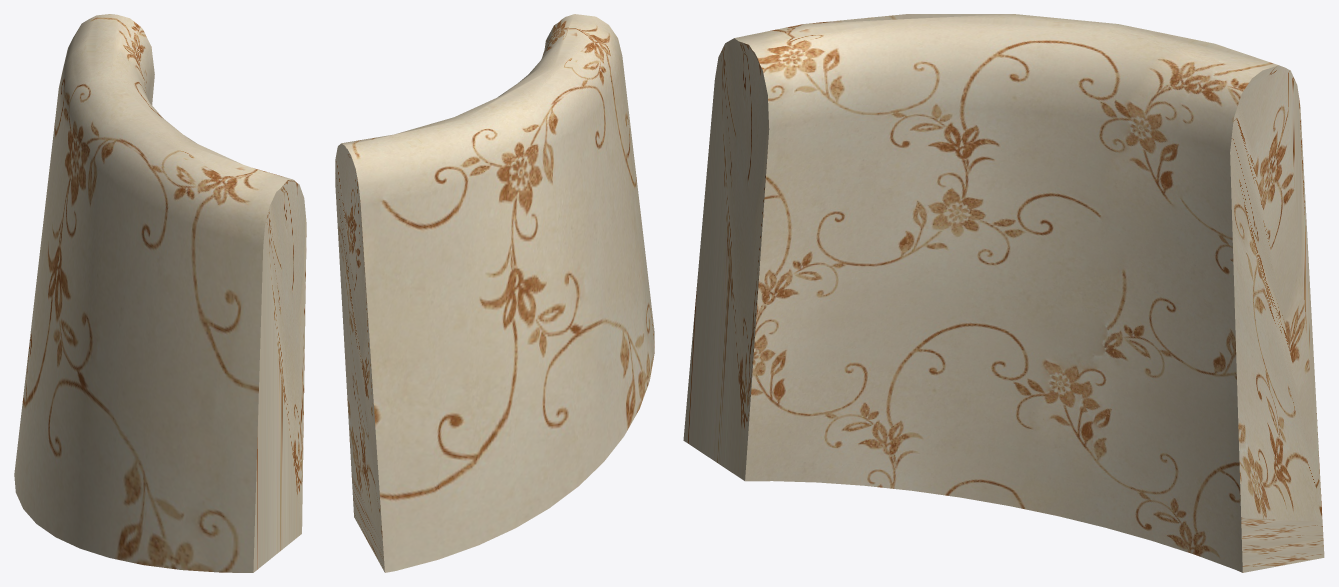
3 views of the same model, side by side, from view 1: azimuth 30°, elevation 25°; view 2: azimuth 150°, elevation 25°; view 3: azimuth 270°, elevation 25° (orthographic). The views are drawn at different scales.
Parts seen in each view (by area): view 1: Cylinder_cell.006; view 2: Cylinder_cell.006; view 3: Cylinder_cell.006.
Boxes of the visible parts, <box> form: Cylinder_cell.006: <box>14,14,306,572</box>; Cylinder_cell.006: <box>335,14,654,572</box>; Cylinder_cell.006: <box>683,14,1324,572</box>.
Bounding box in the file's own units: 0.4393 × 0.9871 × 1.08.
Materials: 1 (1 with a texture image).
